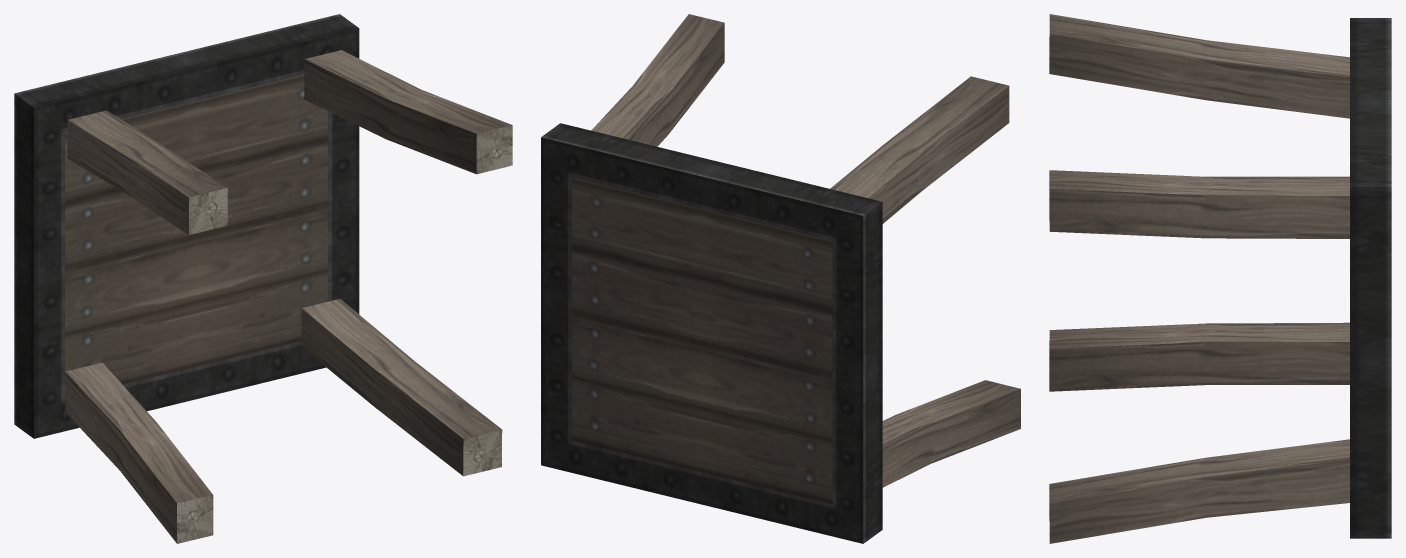
File: Table_Square_Small_B.fbx
3 views of the same model, side by side, from view 1: azimuth 30°, elevation 25°; view 2: azimuth 150°, elevation 25°; view 3: azimuth 270°, elevation 25° (orthographic). The views are drawn at different scales.
Parts seen in each view (by area): view 1: Table_Square_Small_B; view 2: Table_Square_Small_B; view 3: Table_Square_Small_B.
Part boxes in pixels (x1,y1,x2,y2): Table_Square_Small_B: [14, 14, 512, 543]; Table_Square_Small_B: [541, 14, 1020, 543]; Table_Square_Small_B: [1049, 14, 1391, 543].
Size of the model in its own units: 1.12 by 1.1 by 0.9273.
